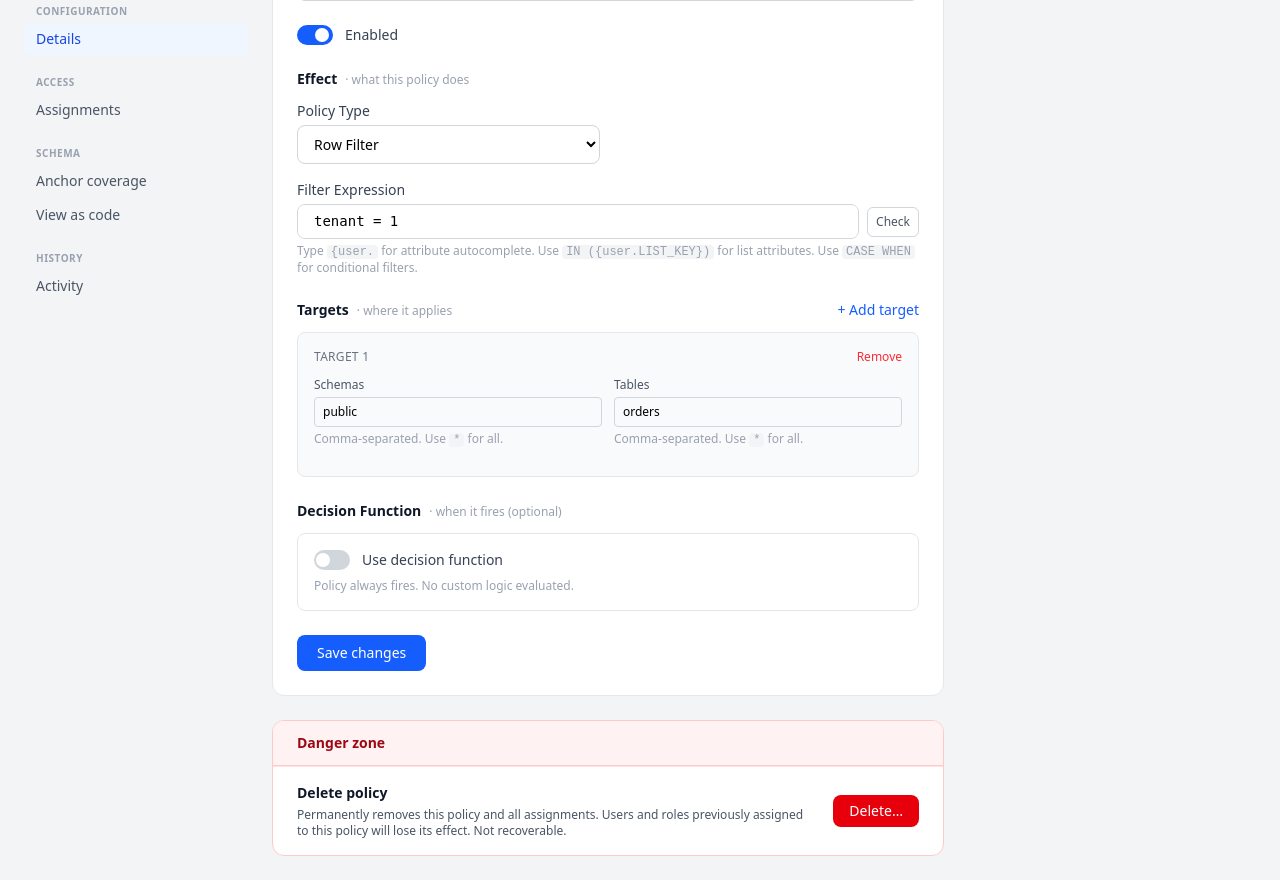
Scenario: PolicyEditPage — danger zone › offers "Disable instead" when the policy is enabled
This screenshot has width=1280, height=880.
(page scrolled)
Click the button "Delete…".
click(876, 811)  # box x1=833 y1=795 x2=919 y2=827
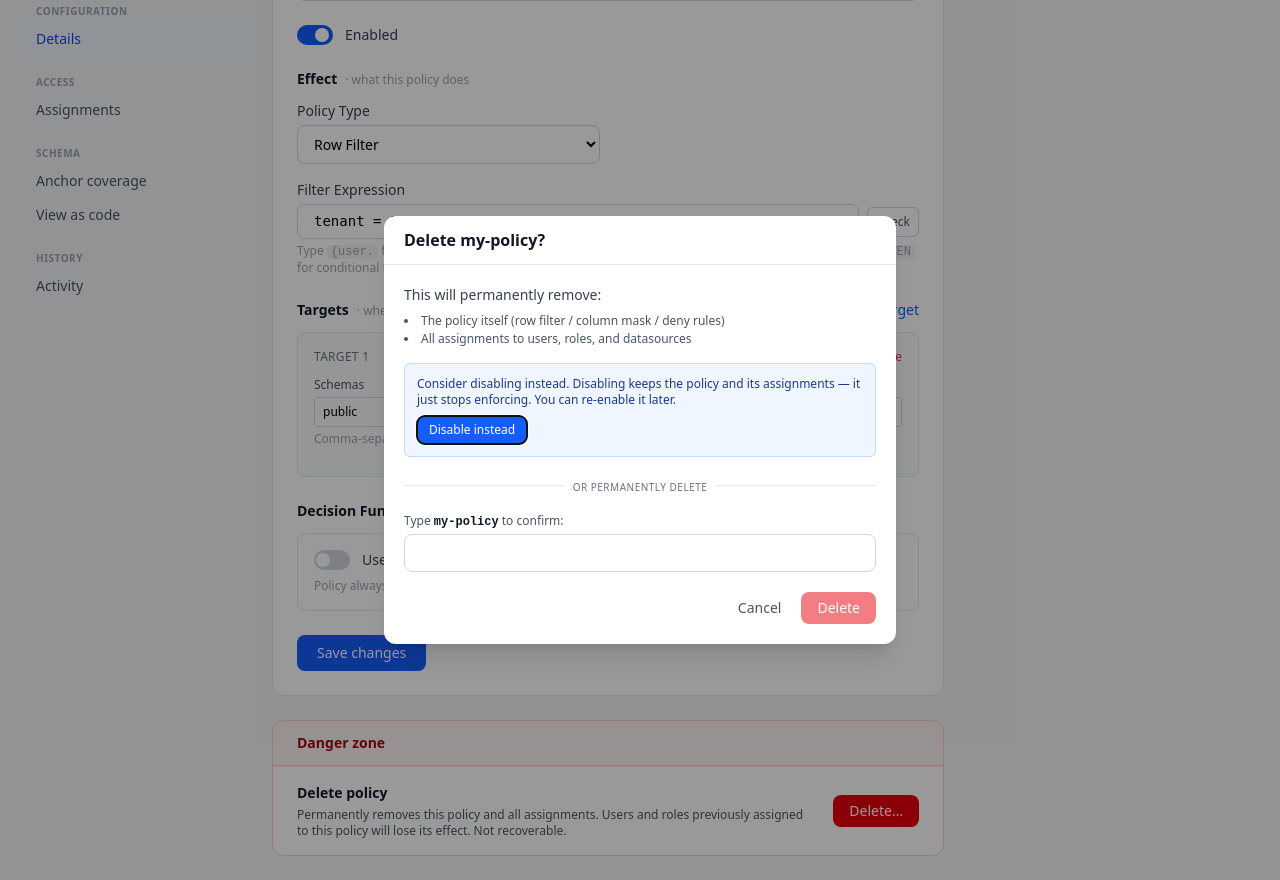
Check: the button "Disable instead" is shown, box x1=417 y1=416 x2=527 y2=444
